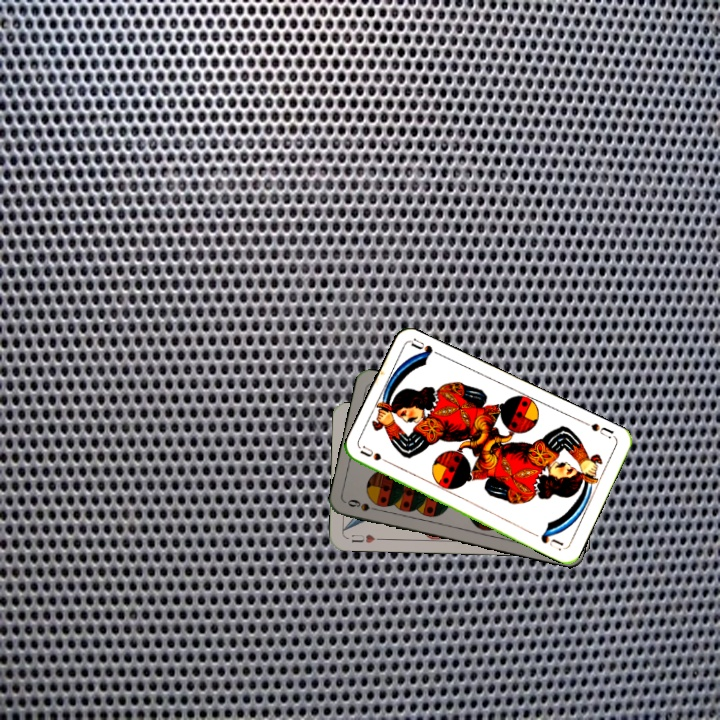HU: (348, 530, 384, 545)
S9: (343, 495, 383, 514)
SU: (357, 443, 396, 468), (587, 419, 616, 441)
